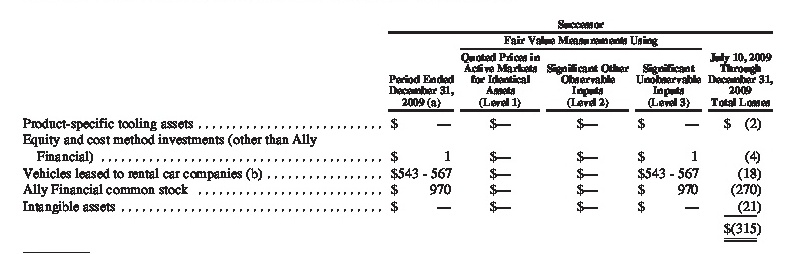table: (0, 0, 790, 254)
